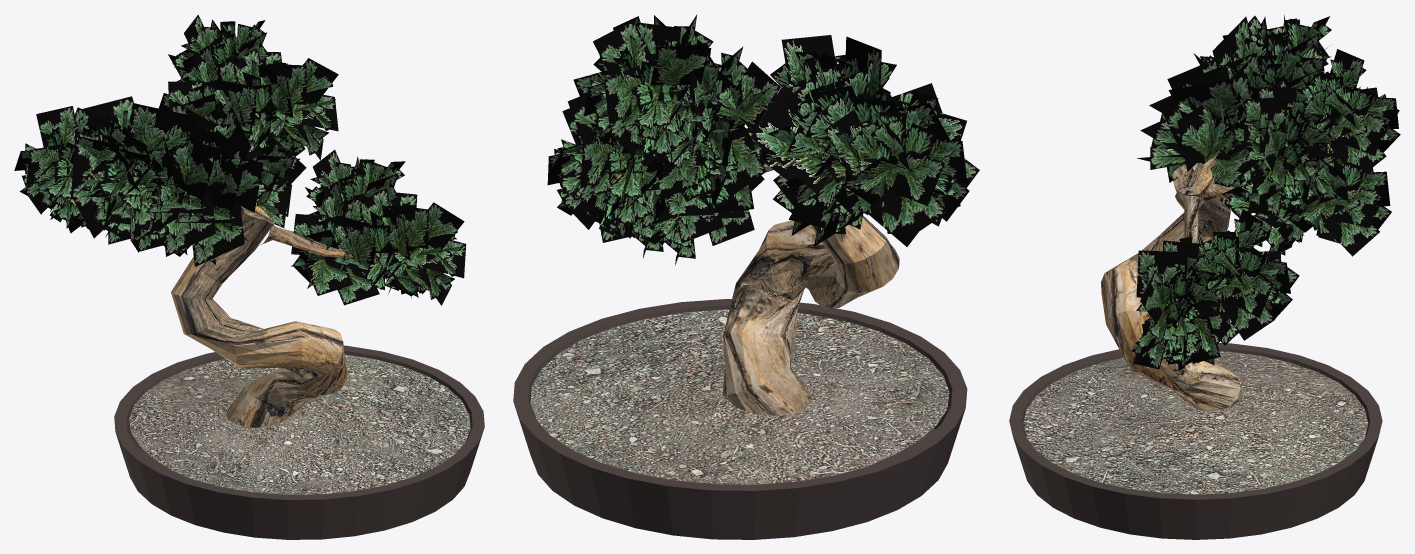
Rendered from sweethome3d-scopia-bonsai-tree.glb.
The picture shows the model from 3 angles, left to right: view 1: azimuth 30°, elevation 25°; view 2: azimuth 150°, elevation 25°; view 3: azimuth 270°, elevation 25°; orthographic projection. The views are drawn at different scales.
Parts seen in each view (by area): view 1: 3, 1.001, 2, 1.002, 1, 4; view 2: 3, 1, 1.001, 2, 4, 1.002; view 3: 3, 1, 2, 1.002, 1.001, 4.
Part boxes in pixels (x1,y1,x2,y2): 3: (129, 354, 470, 494); 1.001: (14, 96, 268, 266); 2: (114, 345, 484, 539); 1.002: (291, 149, 466, 305); 1: (158, 14, 338, 227); 4: (171, 202, 377, 427); 3: (530, 309, 949, 484); 1: (549, 15, 780, 245); 1.001: (746, 35, 979, 246); 2: (513, 299, 967, 539); 4: (616, 145, 899, 415); 1.002: (547, 108, 695, 265); 3: (1023, 351, 1368, 494); 1: (1221, 49, 1400, 256); 2: (1009, 343, 1382, 539); 1.002: (1131, 209, 1299, 370); 1.001: (1137, 15, 1331, 217); 4: (1101, 157, 1242, 410).
Bounding box in the file's own units: 44.47 × 42.94 × 38.25.
4 materials, 3 textured.
